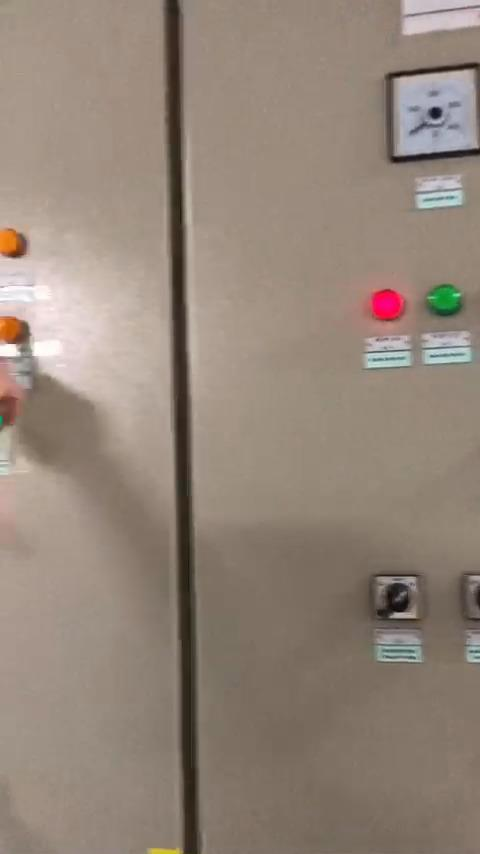led: (365, 283, 409, 324), (425, 285, 464, 320), (0, 221, 27, 260), (0, 311, 27, 346)
twist: (372, 573, 425, 626), (459, 571, 480, 624)
